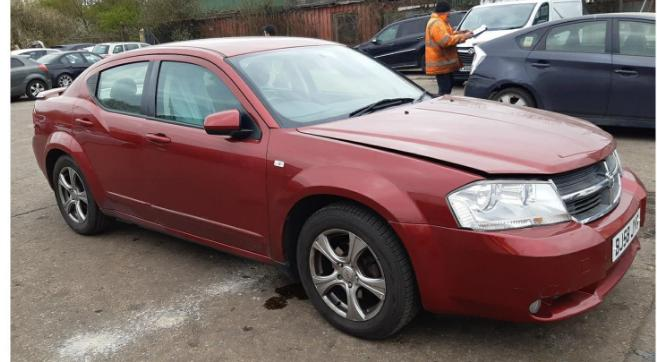Back-door: (70, 53, 159, 223)
Back-wheel: (53, 155, 118, 236)
Back-window: (98, 61, 150, 114)
Fender: (267, 126, 487, 263)
Front-bumper: (388, 166, 647, 322)
Front-door: (142, 55, 271, 257)
Front-wheel: (295, 197, 423, 341)
Front-window: (155, 61, 241, 127)
Grille: (550, 151, 622, 223)
Headlight: (445, 177, 573, 231), (614, 147, 623, 176)
Hood: (297, 94, 617, 175)
License-plate: (612, 207, 641, 261)
Mirror: (204, 109, 254, 141)
Quarter-panel: (32, 95, 79, 190)
Rocker-panel: (99, 209, 274, 264)
Roof: (127, 36, 345, 57)
Tail-light: (32, 101, 36, 133)
Trunk: (37, 87, 67, 99)
Windshield: (225, 45, 435, 128)
